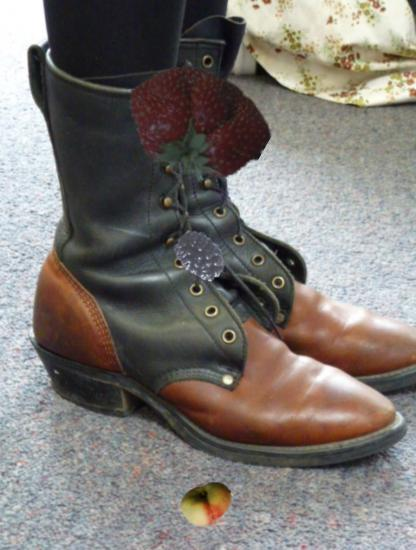Mulberry: (173, 228, 229, 284)
Peach: (180, 477, 235, 532)
Strawberry: (121, 52, 268, 199)
